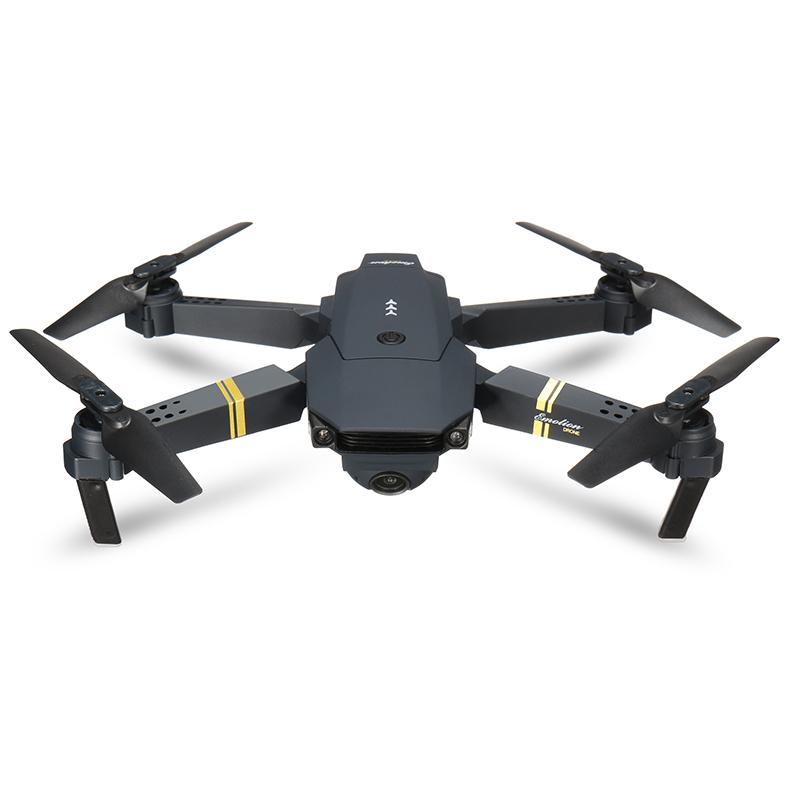drone: (24, 208, 787, 566)
